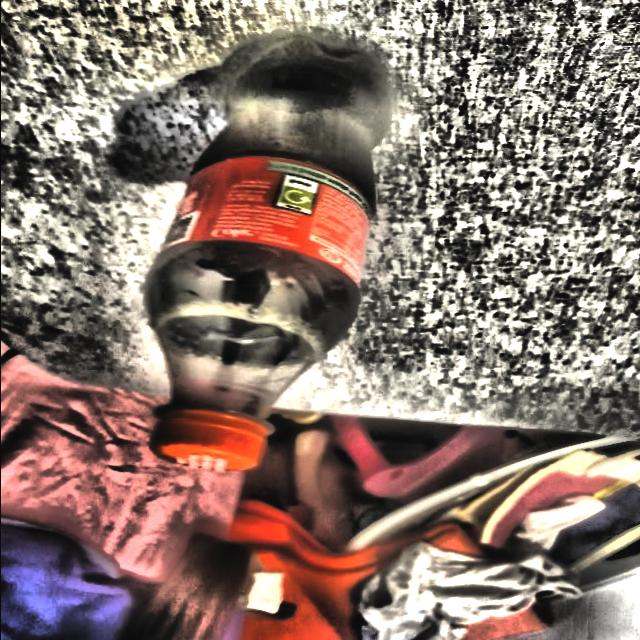coke-bottle: (144, 26, 402, 476)
